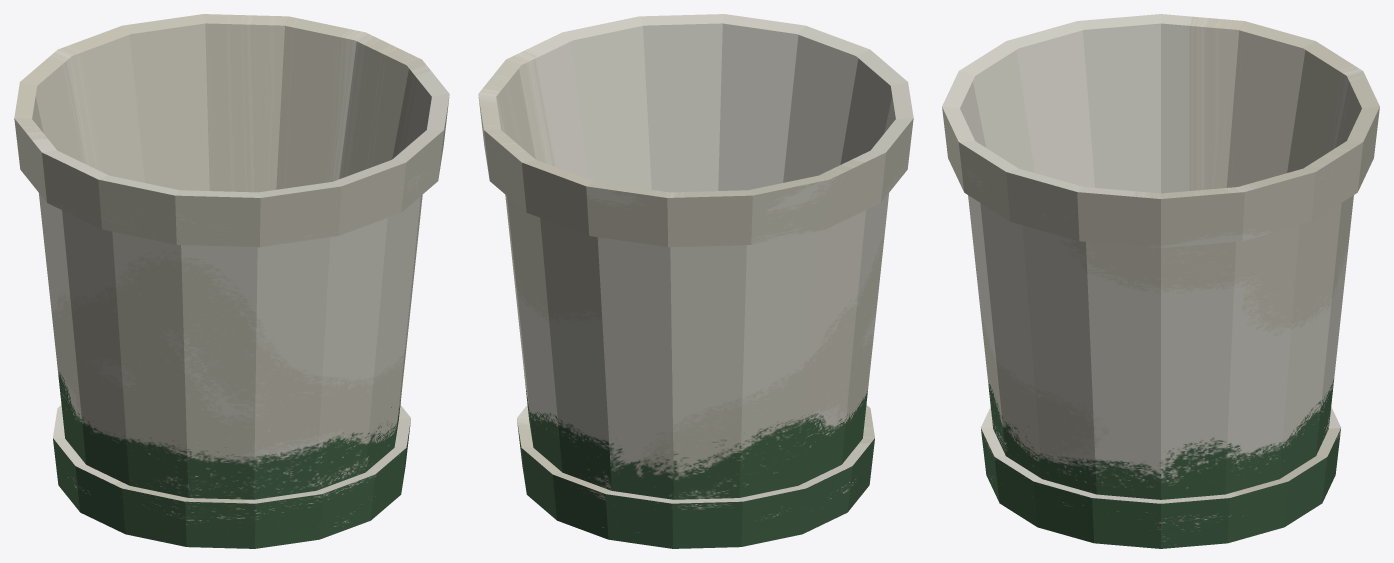
Rendered from copihno.obj.
3 views of the same model, side by side, from view 1: azimuth 30°, elevation 25°; view 2: azimuth 150°, elevation 25°; view 3: azimuth 270°, elevation 25° (orthographic).
Parts seen in each view (by area): view 1: Cylinder; view 2: Cylinder; view 3: Cylinder.
Part boxes in pixels (x1=…): Cylinder: x1=14, y1=14, x2=449, y2=548; Cylinder: x1=478, y1=14, x2=913, y2=548; Cylinder: x1=942, y1=14, x2=1379, y2=548.
Size of the model in its own units: 3.28 by 3.05 by 3.28.
Materials: 1 (1 with a texture image).
